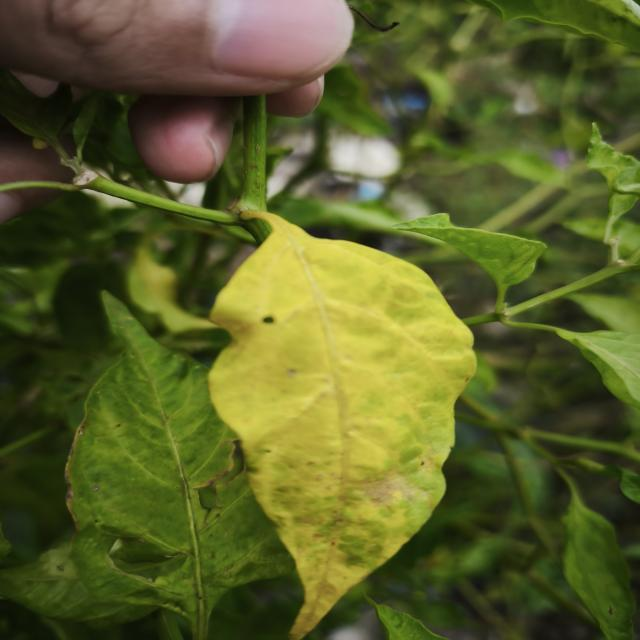Virus Kuning: (205, 208, 478, 638)
